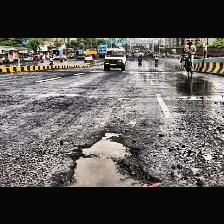pothole: (52, 134, 162, 186)
